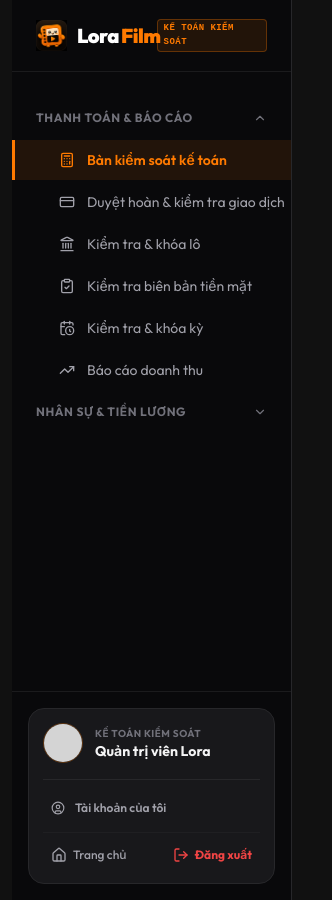
Scenario: AdminSidebar › labels the independent controller workspace explicitly
Expected: the text "Bàn kiểm soát kế toán" is shown, 87,150 -> 227,170
Expected: the text "Kế toán kiểm soát" is shown 2 times, 157,19 -> 267,52; 95,726 -> 210,740
Click the button "Nhân sự & tiền lương": click(152, 412) 12,394 -> 291,430
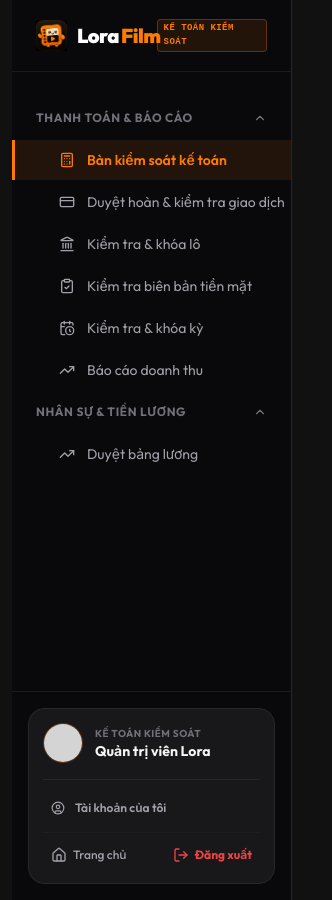
Expected: the text "Duyệt bảng lương" is shown, 87,444 -> 198,464
